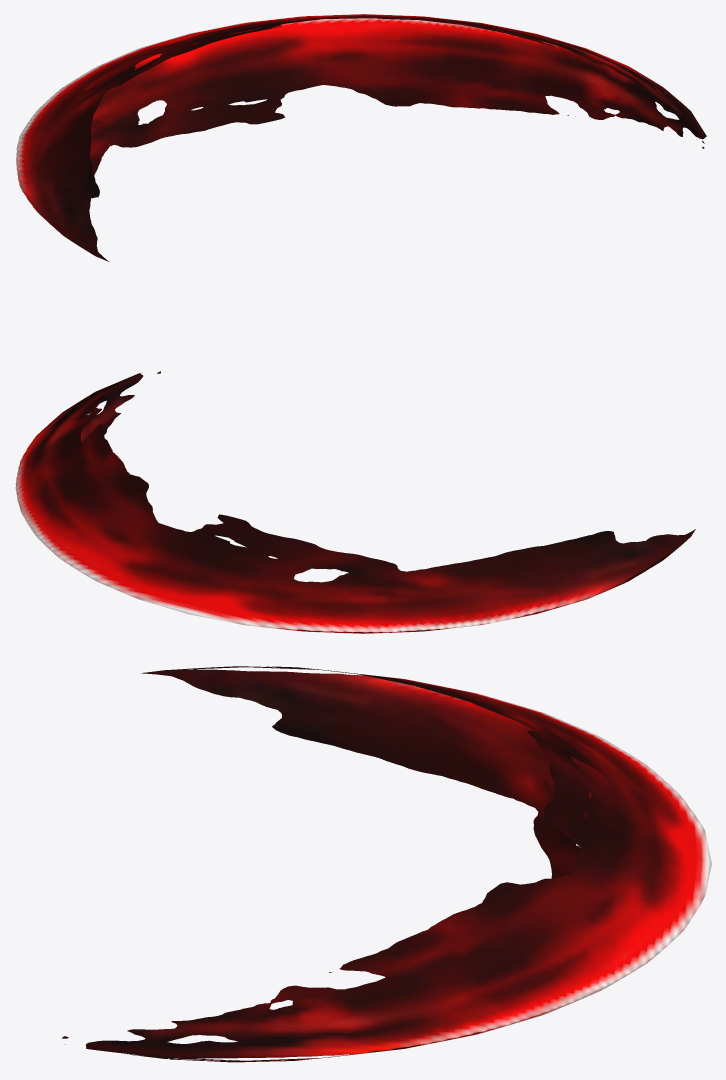
Rendered from Eric_SkashCylinder002.FBX.
The picture shows the model from 3 angles, top to bottom: view 1: azimuth 30°, elevation 25°; view 2: azimuth 150°, elevation 25°; view 3: azimuth 270°, elevation 25°; orthographic projection. The views are drawn at different scales.
Parts seen in each view (by area): view 1: Eric_SkashCylinder002; view 2: Eric_SkashCylinder002; view 3: Eric_SkashCylinder002.
Part boxes in pixels (bbox=[...]): Eric_SkashCylinder002: bbox=[16, 14, 706, 261]; Eric_SkashCylinder002: bbox=[15, 371, 695, 633]; Eric_SkashCylinder002: bbox=[61, 666, 711, 1062].
Size of the model in its own units: 199 by 35.26 by 149.
